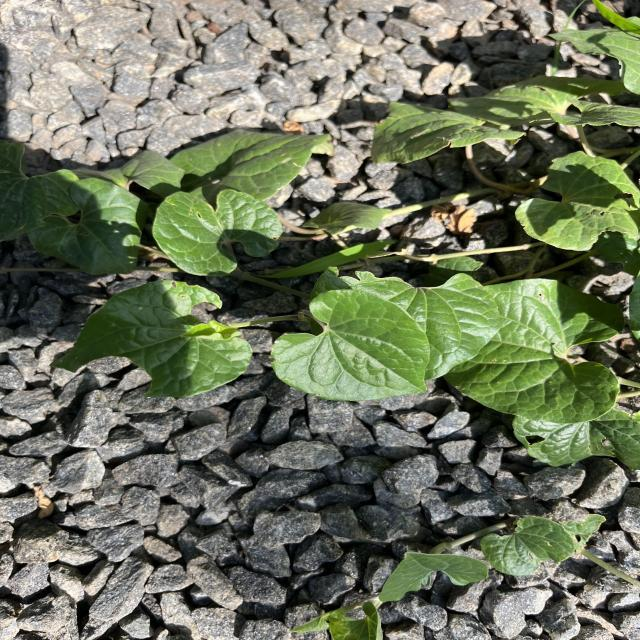Piper longum: (268, 287, 433, 404)
